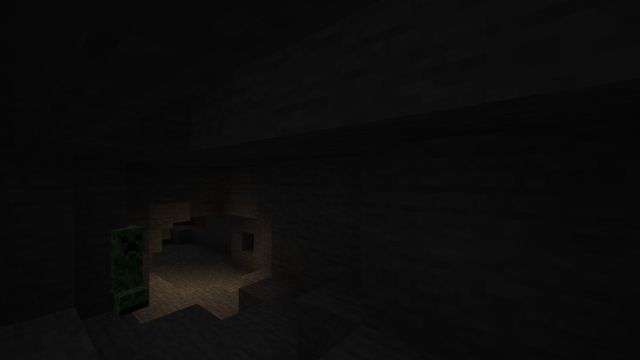creepers: (106, 221, 147, 317)
